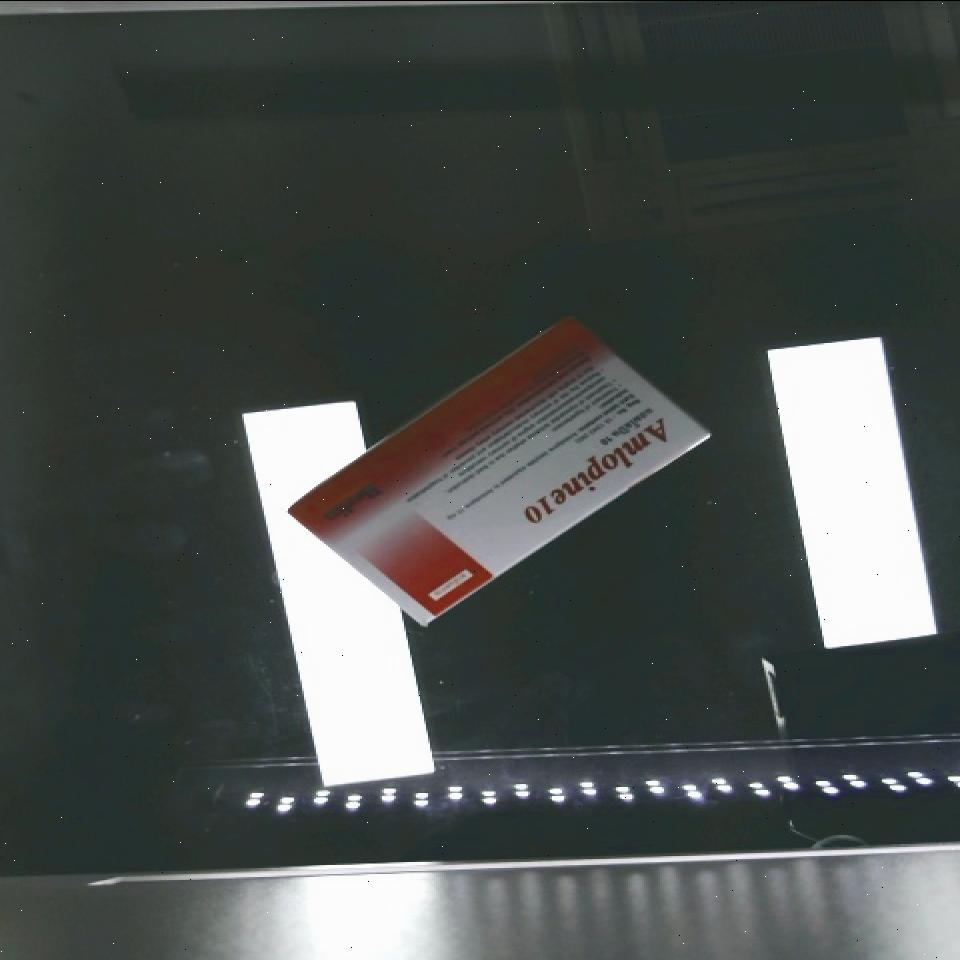medicine_box: (282, 282, 717, 659)
medicine_label_obb: (501, 386, 697, 545)
